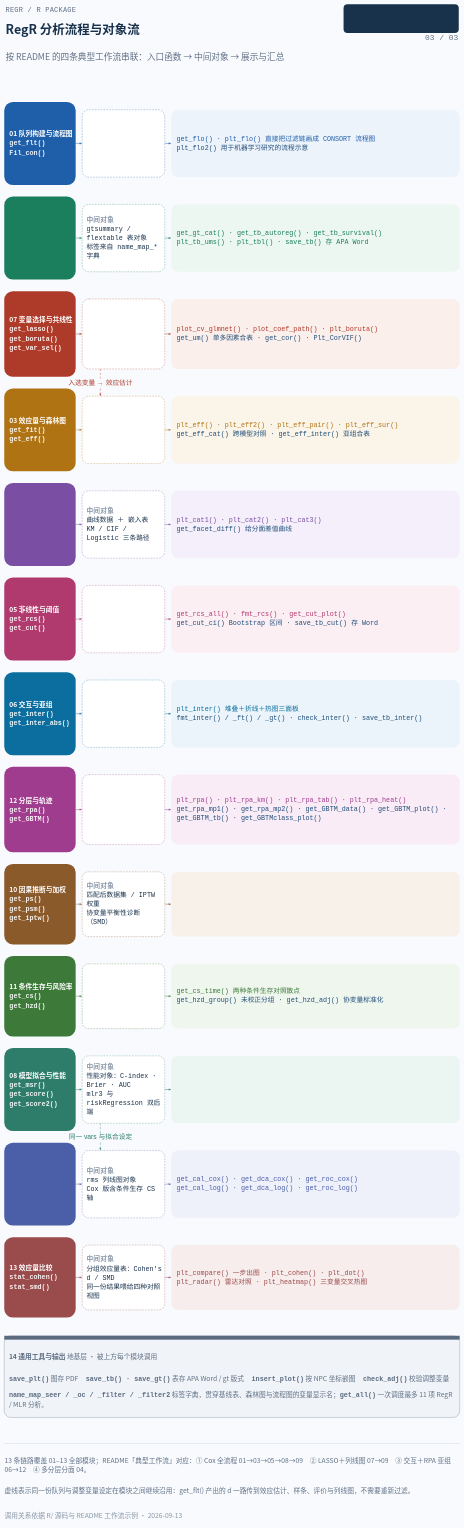
This 464x1528 diagram has some shape labels left out. The shapes that lost their labels are listed below. From the top down, each one's centre as x and y in pixels, then its label:
point (401, 18): v0.1.3 · 106 个导出接口
point (123, 143): 中间对象 d 带 attr("flt") 累积过滤历史 每步的剔除原因与例数都留在属性里
point (40, 237): 02 基线与组间比较 get_tb_gtsummary() get_tb_ums()
point (123, 334): 中间对象 入选变量向量 vars_min / 确认变量集 进模型前用相关与 VIF 复核共线性
point (123, 430): 中间对象 效应表：HR / OR / subHR ＋ 95% CI 按 time 与结局等级数自动选模型
point (40, 524): 04 生存曲线与分面 get_cat() get_facet()
point (123, 619): 中间对象 样条曲线对象 ＋ 切点表 get_pnl_curve() 给曲线的非线性 P 值
point (123, 713): 中间对象 交互表：RERI / AP / SI 相对尺度与绝对风险尺度各一套
point (123, 809): 中间对象 终端节点分组 / 后验轨迹类别 可写回原数据当作新的分层变量
point (315, 904): get_psm_iptw() 把匹配与加权的平衡性并排比较 加权后的队列可直接回到 03 效应量与 04 生存曲线
point (123, 996): 中间对象 条件生存 CS(t|s) 曲线数据 瞬时风险率曲线（5 种估计方法对照）
point (315, 1089): plt_score() 时间曲线 / ROC · get_score_summary() get_score2() 一次给出 Score ＋ 表 ＋ 四张图
point (40, 1184): 09 列线图与临床效用 get_nom_cox() get_nom_log()
